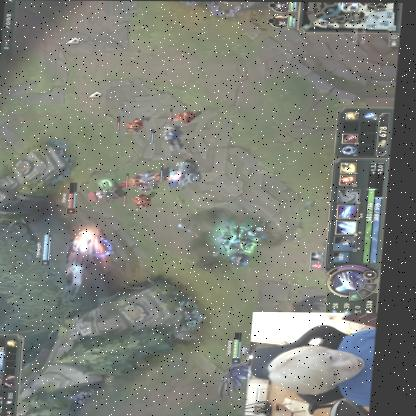streamer: (270, 327, 381, 407)
